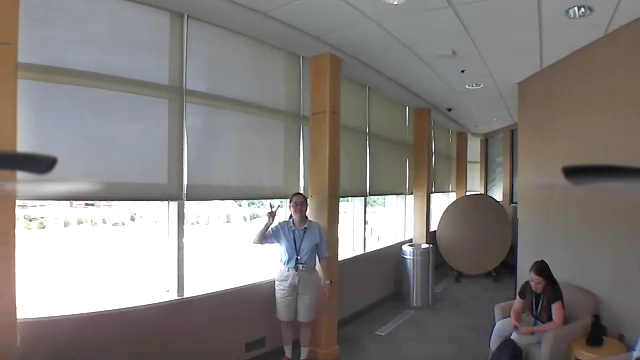peace: (262, 196, 280, 226)
